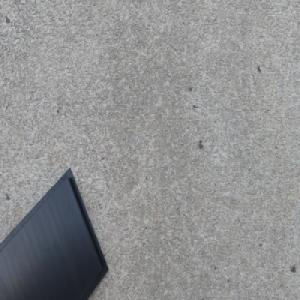PlasticPart: (0, 165, 112, 300)
